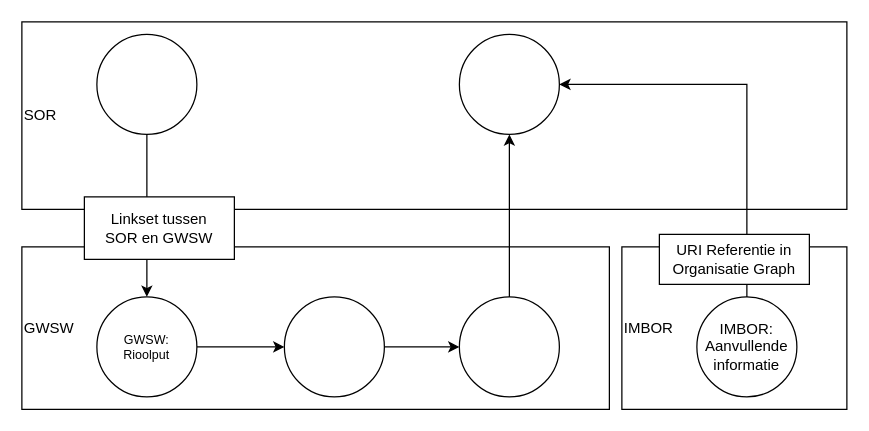
The diagram is 869 pixels wide and 431 high, and some of its shapes have lost their labels. Each missing label, with the box of its shape:
BGT: Terreindeel: (458, 33, 559, 134)
GWSW: Overstortput: (458, 296, 559, 397)
GWSW: Rioolstelsel: (283, 296, 384, 397)
IMGeo: Put: (96, 33, 197, 134)
